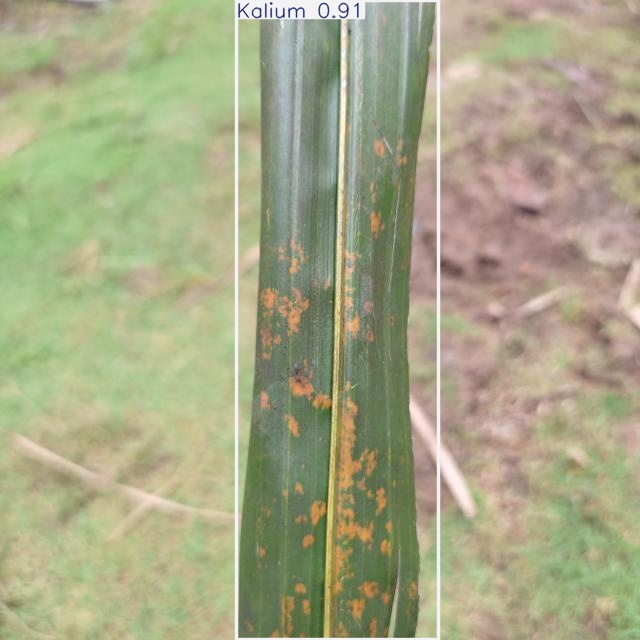Kalium: (236, 0, 439, 640)
